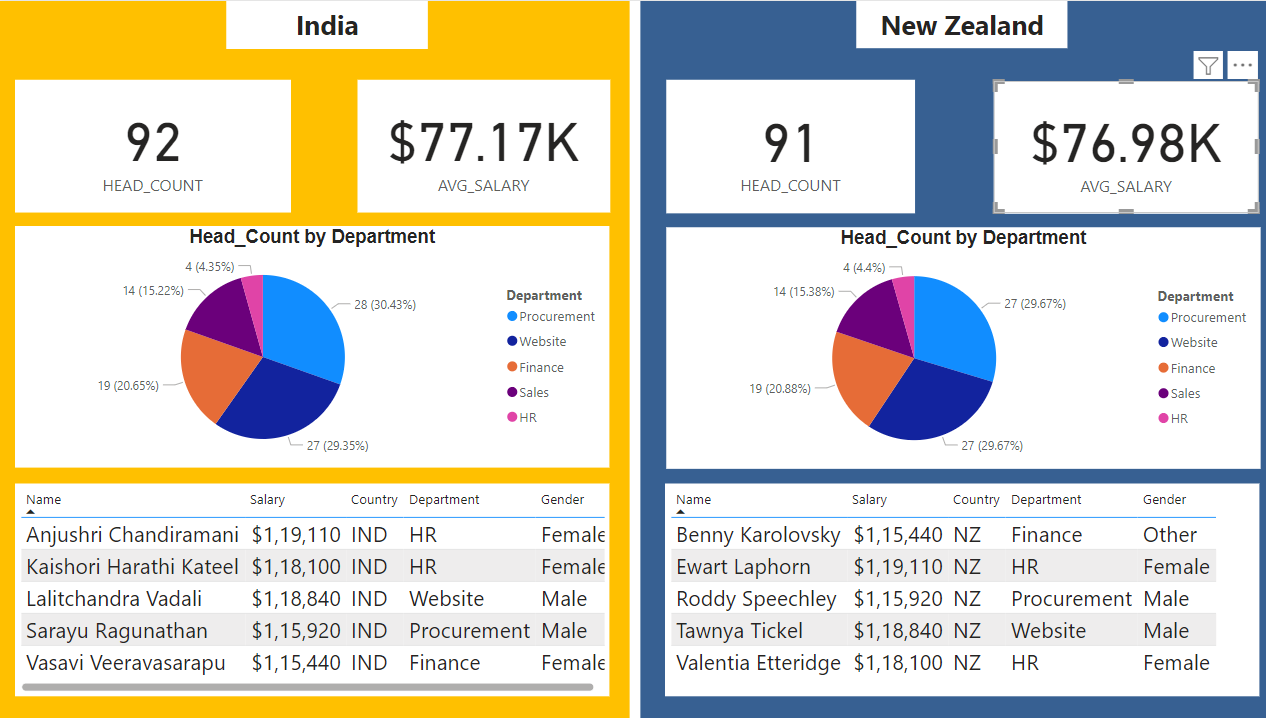

What the dashboard file says about the page in this screenshot:
{"tool":"powerbi","page":{"name":"Qn. 10","canvas":[1280,720],"ordinal":10},"visuals":[{"type":"card","fields":{"Values":["Hr.HEAD_COUNT"]},"box":[20.6,78.2,275.8,133.1],"z":0},{"type":"card","fields":{"Values":["Hr.AVG_SALARY"]},"box":[362.5,78.8,252.5,132.5],"z":1000},{"type":"pieChart","title":"Head_Count by Department","fields":{"Y":["Hr.HEAD_COUNT"],"Category":["Hr.Department"]},"box":[20.6,225,594.2,241.5],"z":2000},{"type":"tableEx","fields":{"Values":["Hr.Name","Hr.Salary","Hr.Country","Hr.Department","Hr.Gender"]},"box":[20,482.9,594.3,212.9],"z":3000},{"type":"card","fields":{"Values":["Hr.HEAD_COUNT"]},"box":[671.2,78.8,248.8,133.8],"z":4000},{"type":"card","fields":{"Values":["Hr.AVG_SALARY"]},"box":[998.8,80,265,132.5],"z":5000},{"type":"pieChart","title":"Head_Count by Department","fields":{"Y":["Hr.HEAD_COUNT"],"Category":["Hr.Department"]},"box":[671.4,225.7,594.3,241.4],"z":6000},{"type":"tableEx","fields":{"Values":["Hr.Name","Hr.Salary","Hr.Country","Hr.Department","Hr.Gender"]},"box":[670,482.9,594.3,212.9],"z":7000},{"type":"textbox","box":[231.8,0,201.8,48.2],"z":8000},{"type":"textbox","box":[861.4,0,211.4,47.1],"z":9000}]}

Visuals, with their boxes in screenshot pixels (x1, y1, x2, y2), scaled from the page's 1280x720 canvas onto the 1266x718 screenshot:
card - Hr.HEAD_COUNT: BBox(20, 78, 293, 211)
card - Hr.AVG_SALARY: BBox(359, 79, 608, 211)
"Head_Count by Department" pieChart: BBox(20, 224, 608, 465)
tableEx - Hr.Name x Hr.Salary: BBox(20, 482, 608, 694)
card - Hr.HEAD_COUNT: BBox(664, 79, 910, 212)
card - Hr.AVG_SALARY: BBox(988, 80, 1250, 212)
"Head_Count by Department" pieChart: BBox(664, 225, 1252, 466)
tableEx - Hr.Name x Hr.Salary: BBox(663, 482, 1250, 694)
textbox: BBox(229, 0, 429, 48)
textbox: BBox(852, 0, 1061, 47)
